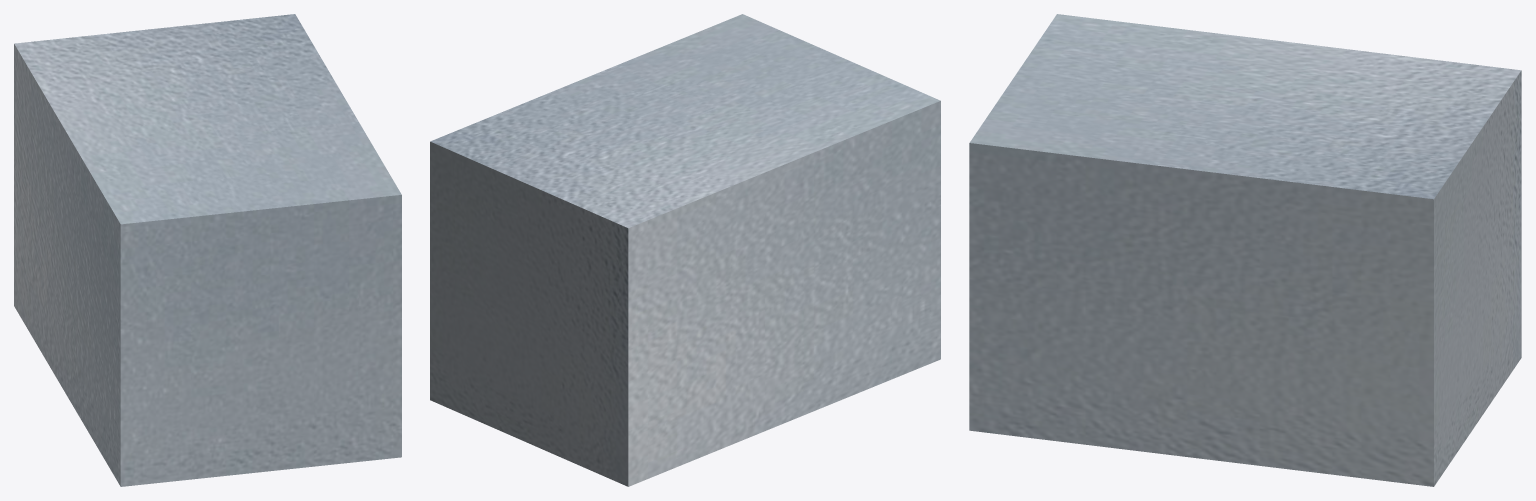
File: RolfArt-OLD.gltf
The picture shows the model from 3 angles, left to right: view 1: azimuth 30°, elevation 25°; view 2: azimuth 150°, elevation 25°; view 3: azimuth 270°, elevation 25°; orthographic projection. The views are drawn at different scales.
Visible parts, largest first — view 1: RolfArt; view 2: RolfArt; view 3: RolfArt.
Boxes of the visible parts, x1,y1,x2,y2 form: RolfArt: (14, 14, 401, 486); RolfArt: (430, 14, 940, 486); RolfArt: (969, 14, 1521, 486).
Bounding box in the file's own units: 0.4292 × 0.3108 × 0.5405.
1 material, 1 textured.
